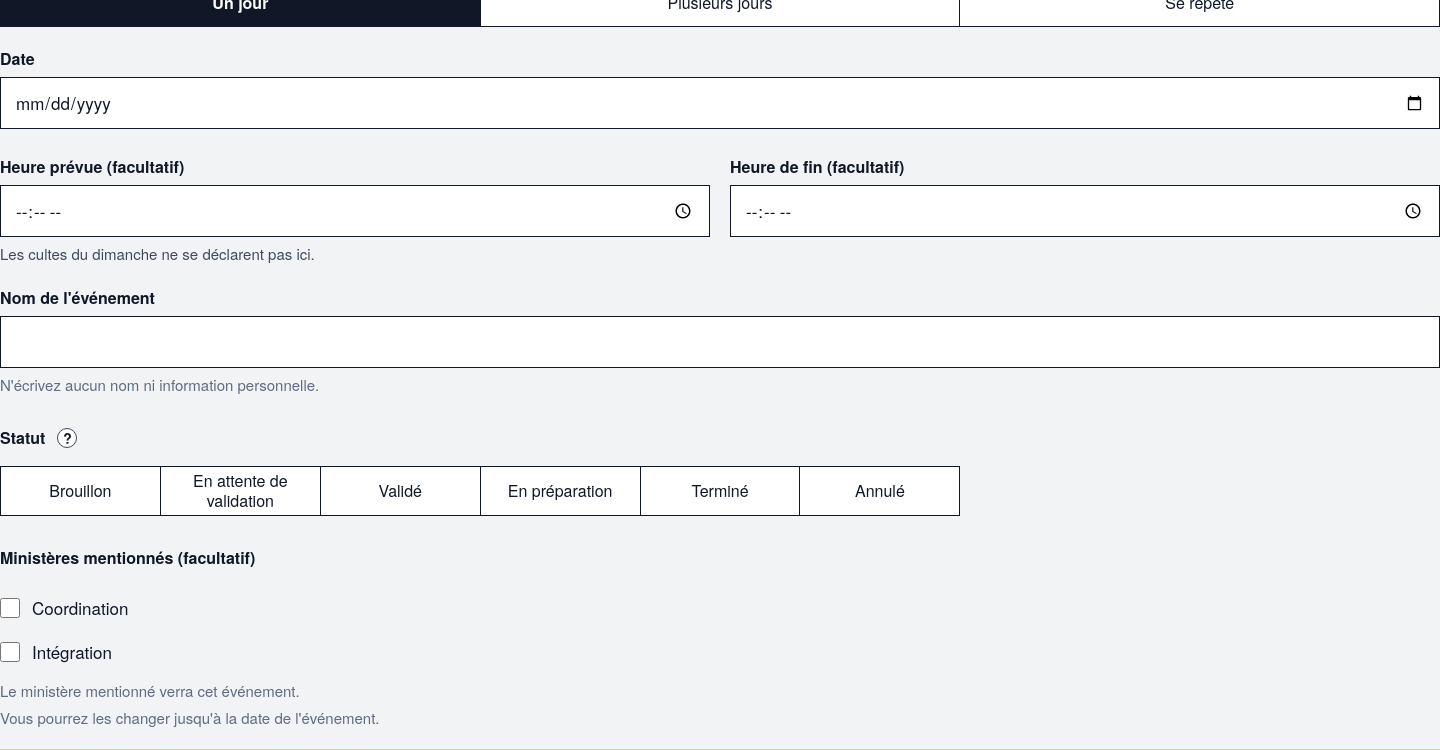
Test: « Ajouter un événement » (maquette 11) › refus de la base sur la date : sous le champ, avec le lien, valeurs gardées
In the date field labelled "Date": coordinates (720, 103) [0, 77, 1439, 129], type "2026-10-06"
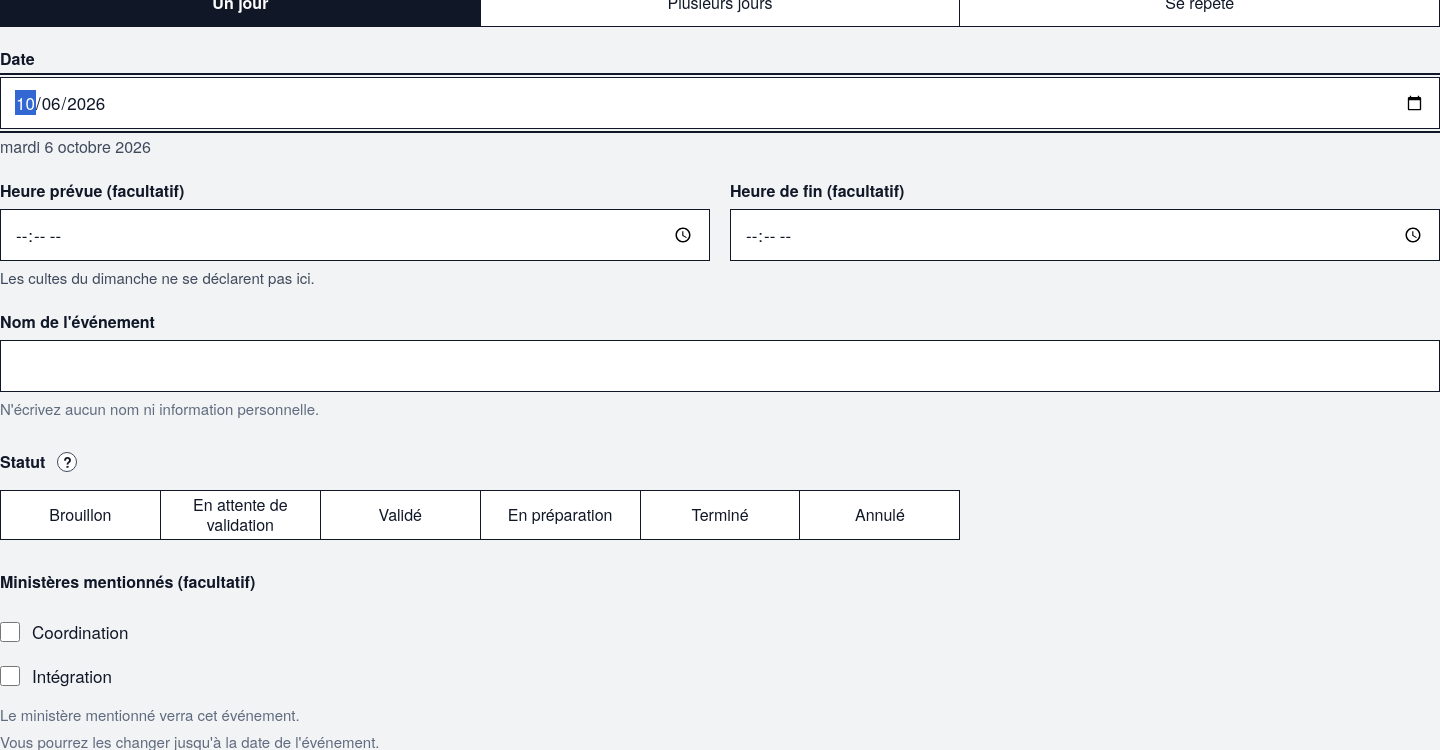
In the field labelled "Nom de l'événement": coordinates (720, 366) [0, 340, 1439, 392], type "  Soirée de louange "
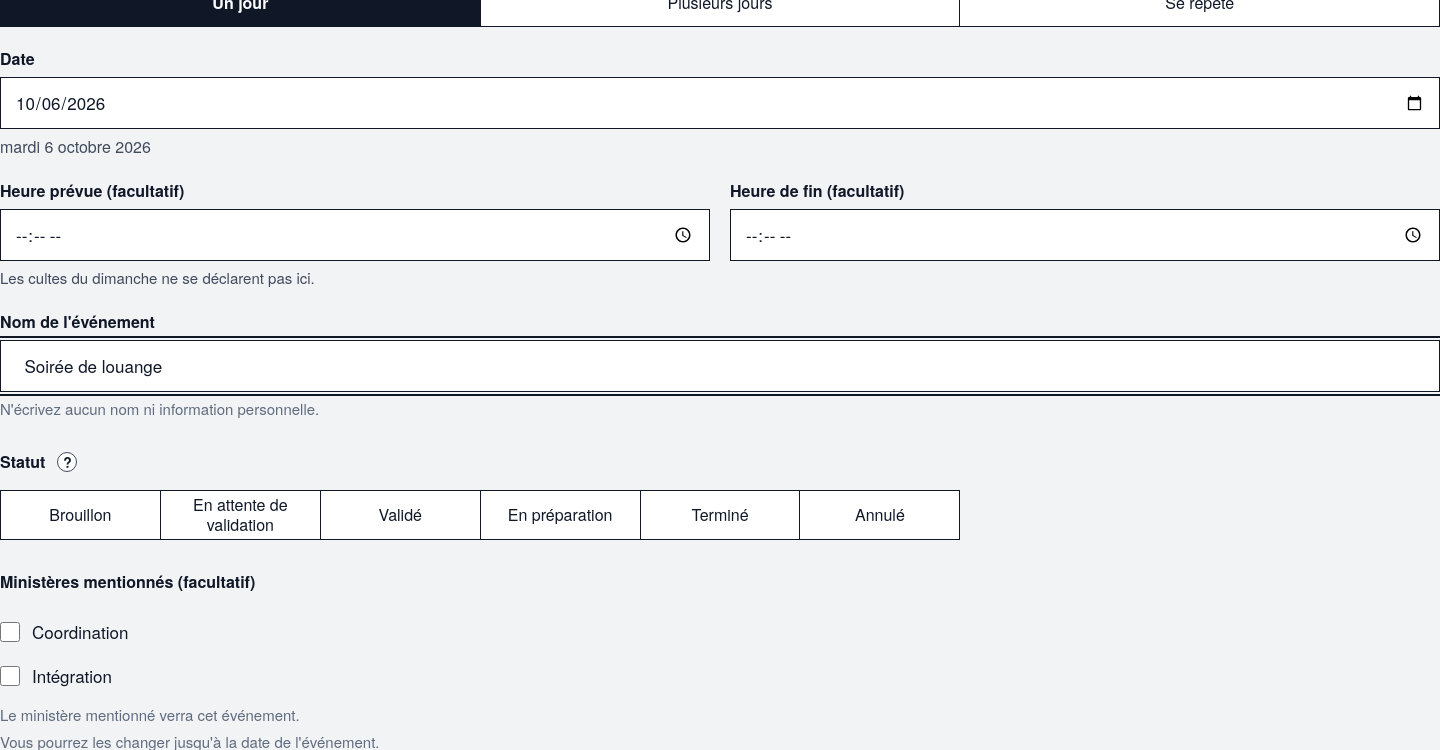
Click the radio button labelled "En attente de validation": coordinates (240, 515) [160, 490, 321, 540]
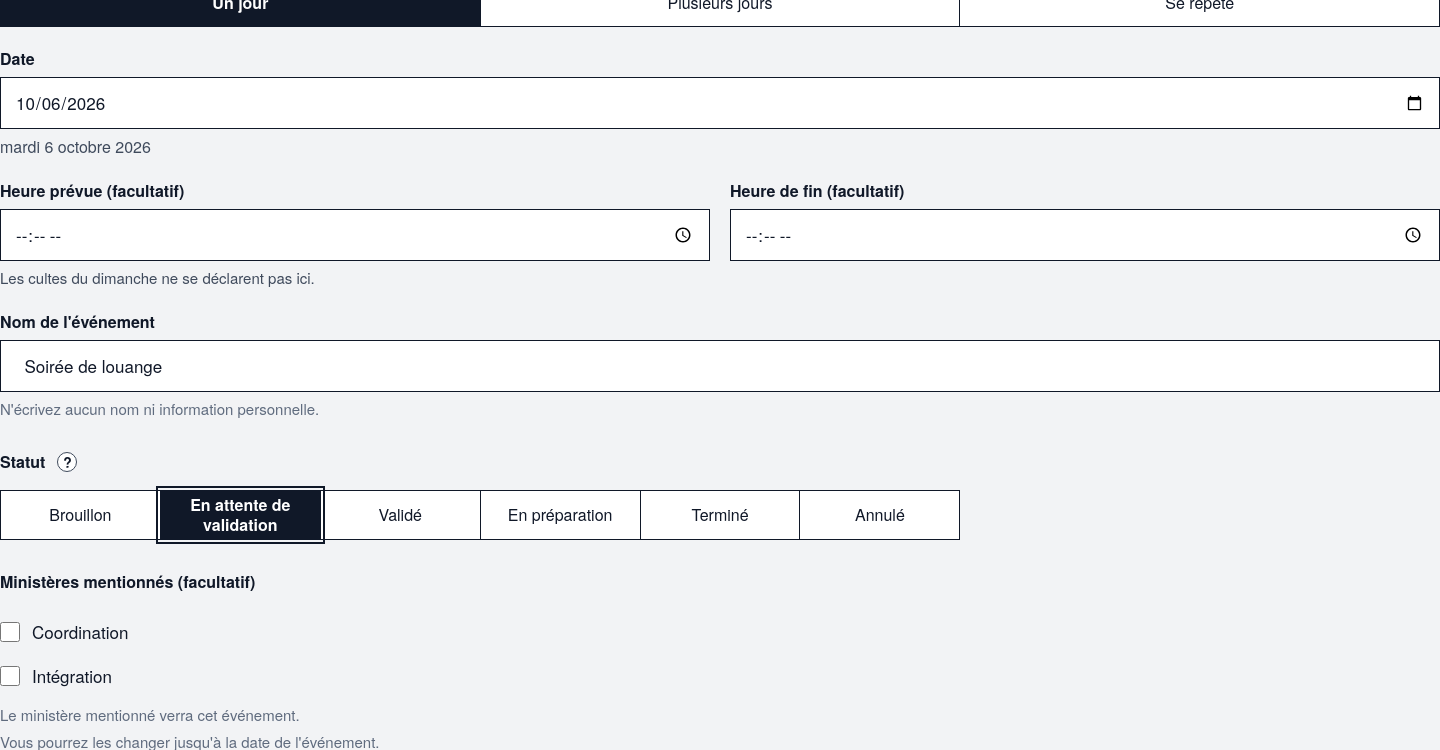
Click the checkbox labelled "Coordination": coordinates (10, 632) [0, 622, 20, 642]
(page scrolled)
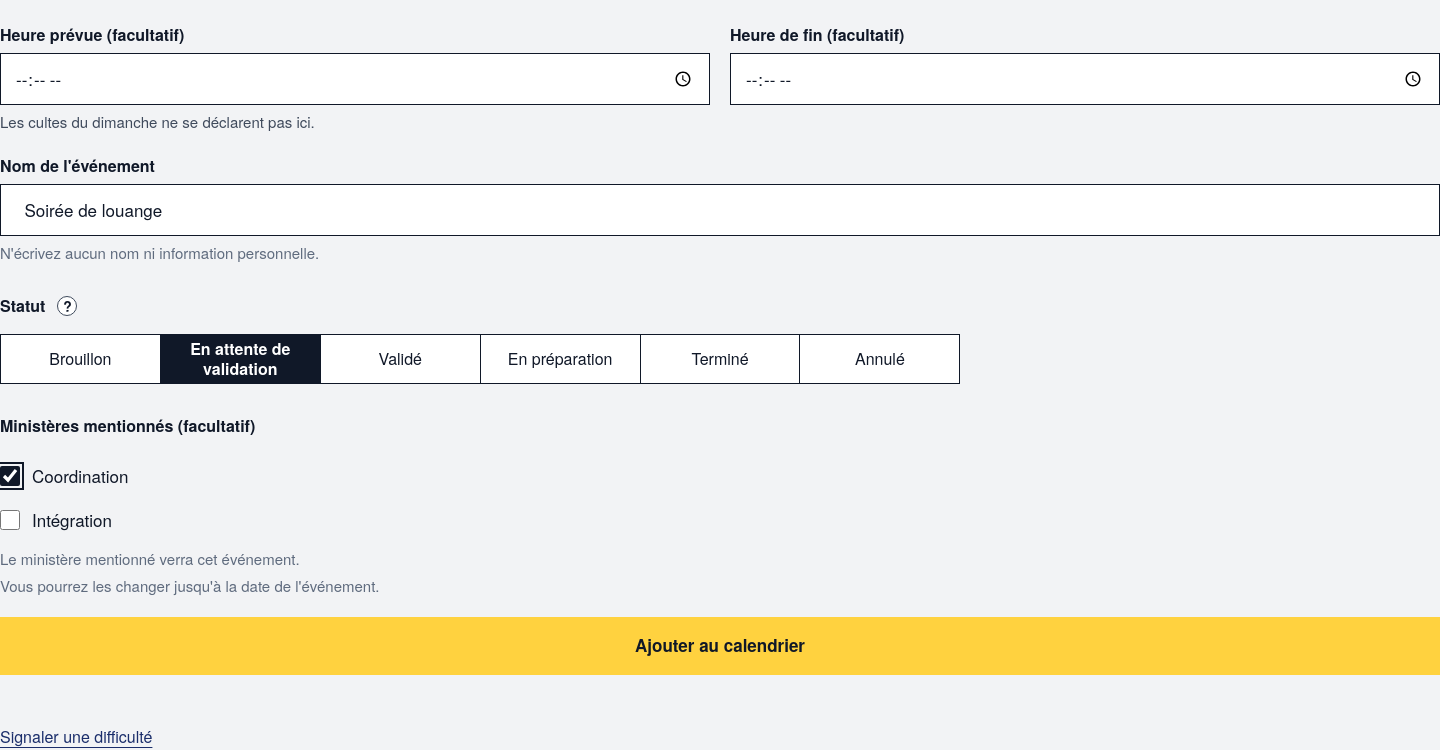
Click the button named "Ajouter au calendrier": coordinates (720, 646) [0, 617, 1439, 675]
(page scrolled)
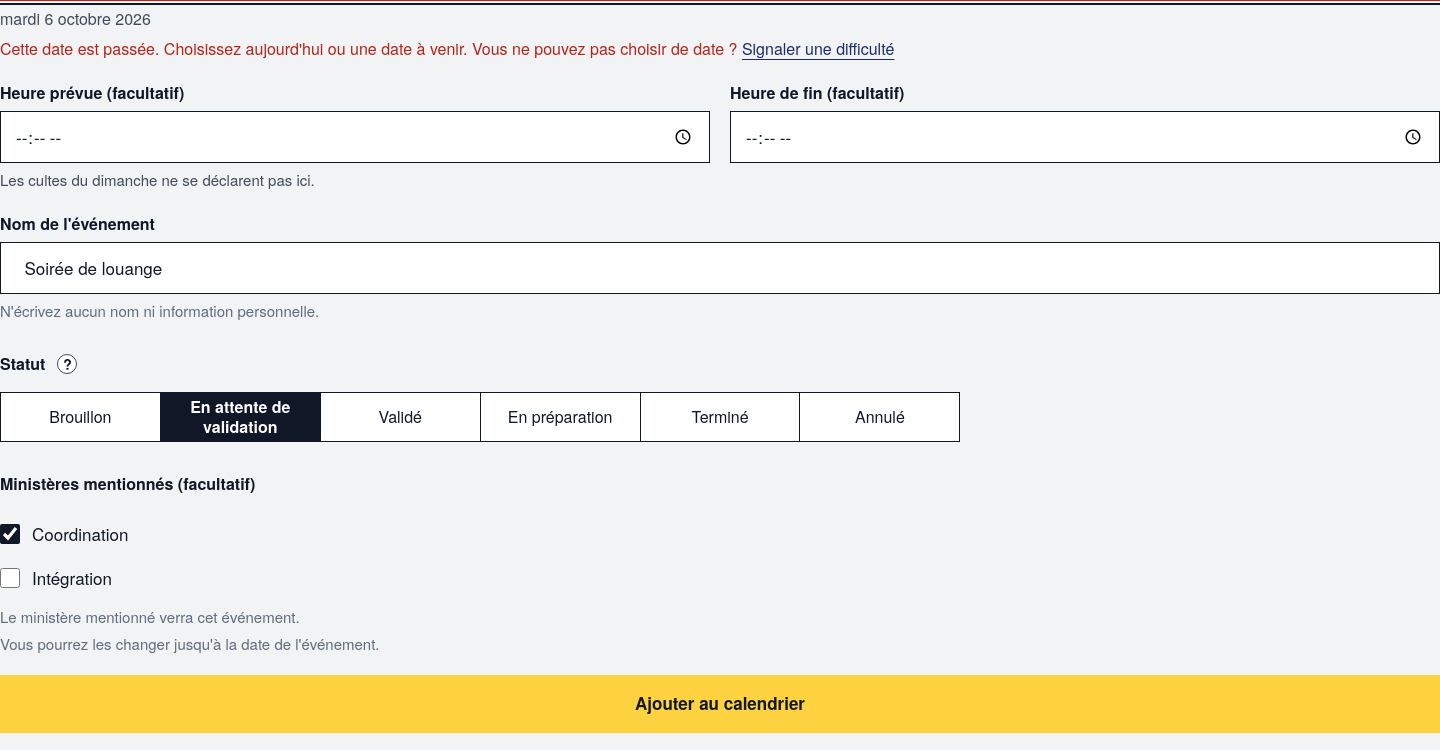
Result: the link "Signaler une difficulté" is shown at [742, 37, 894, 60]
